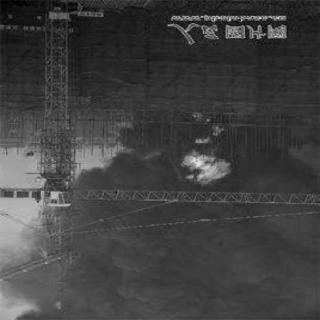Fire: (179, 150, 231, 189), (187, 113, 209, 123), (208, 128, 224, 138), (194, 137, 210, 147)
Smoke: (0, 190, 308, 318), (86, 123, 178, 184), (244, 144, 312, 183)
